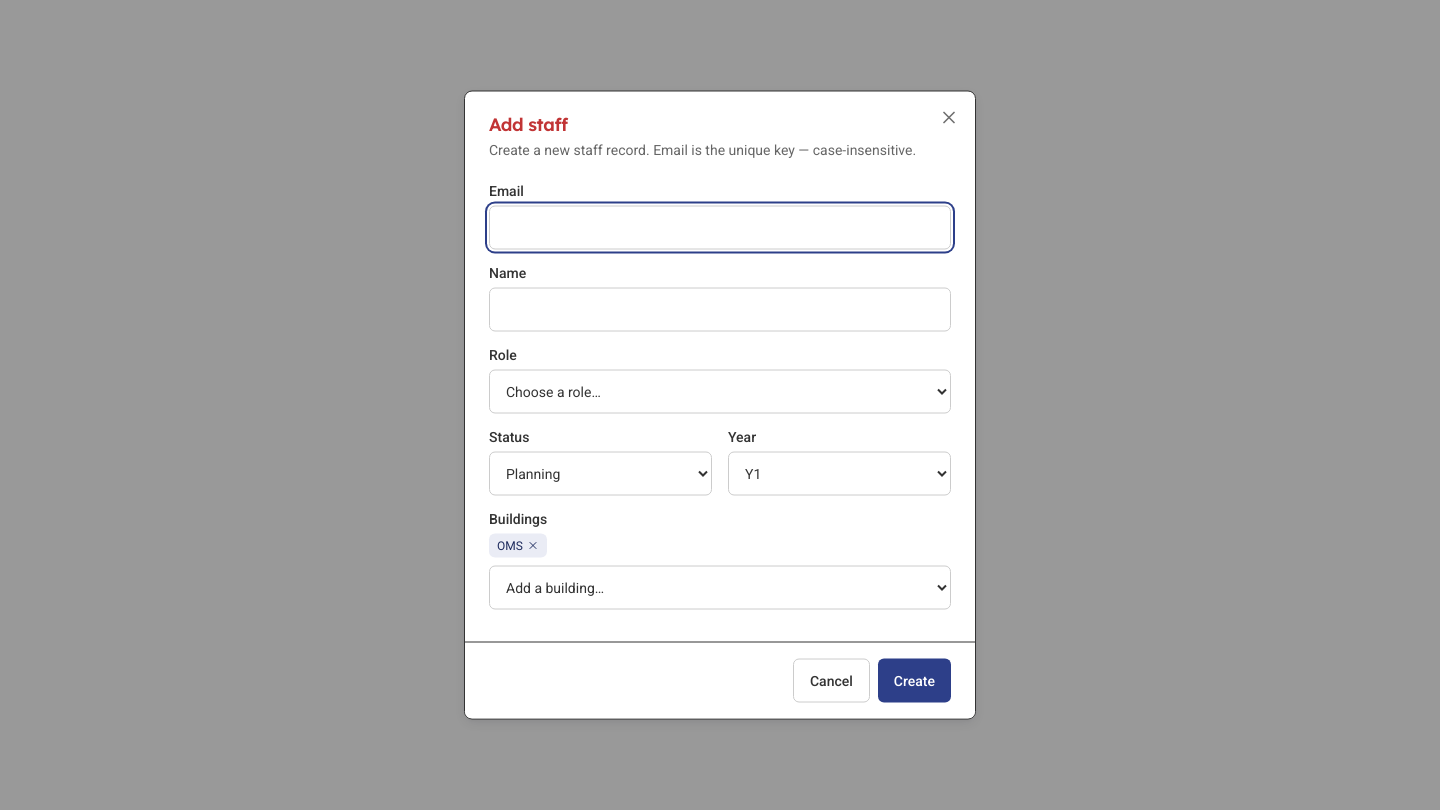
Test: StaffDialog with buildingScope › refuses to create someone outside the admin's buildings
Type "new@orono.k12.mn.us" into the field labelled "Email" at (720, 228), box x1=489 y1=206 x2=951 y2=250
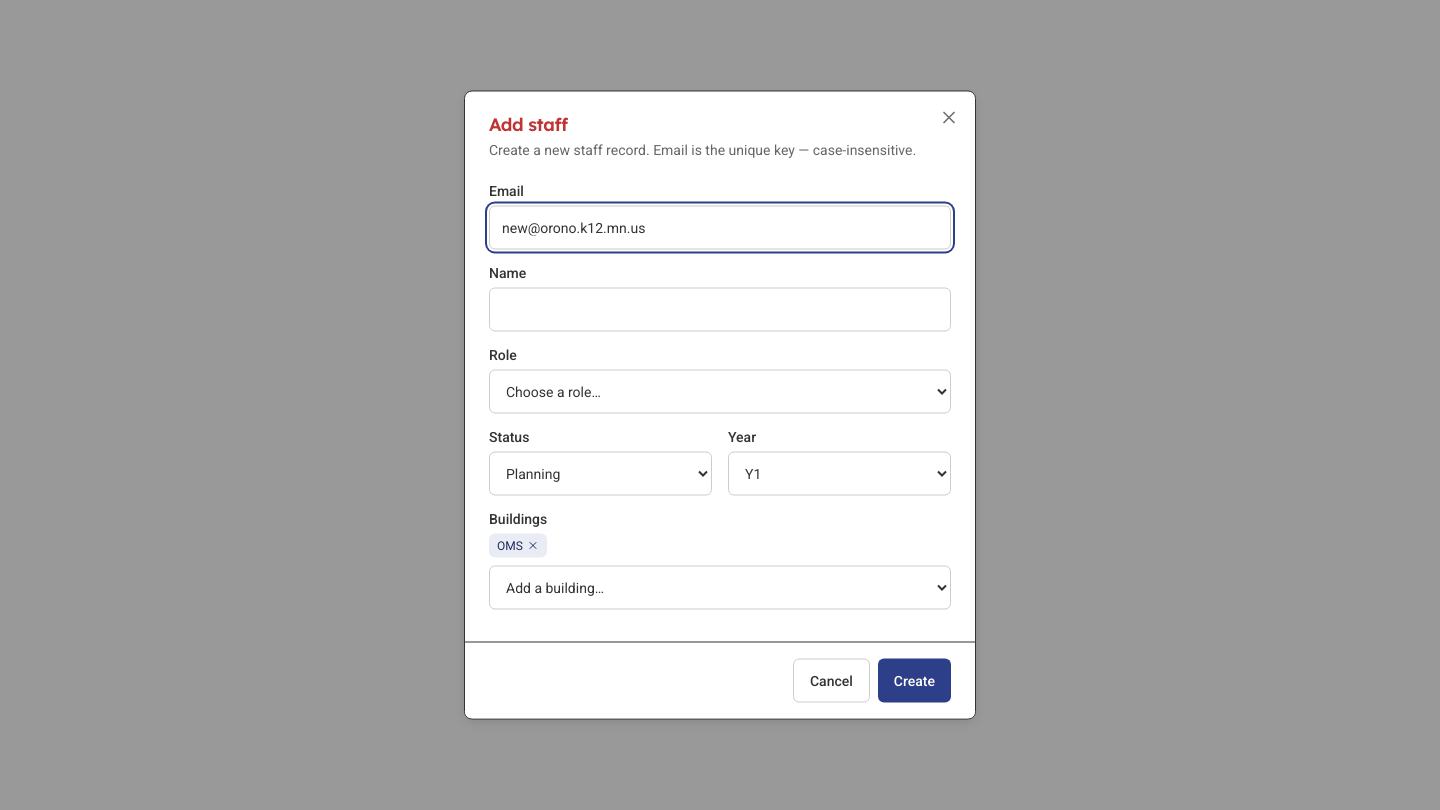
Type "New Hire" into the field labelled "Name" at (720, 310), box x1=489 y1=288 x2=951 y2=332
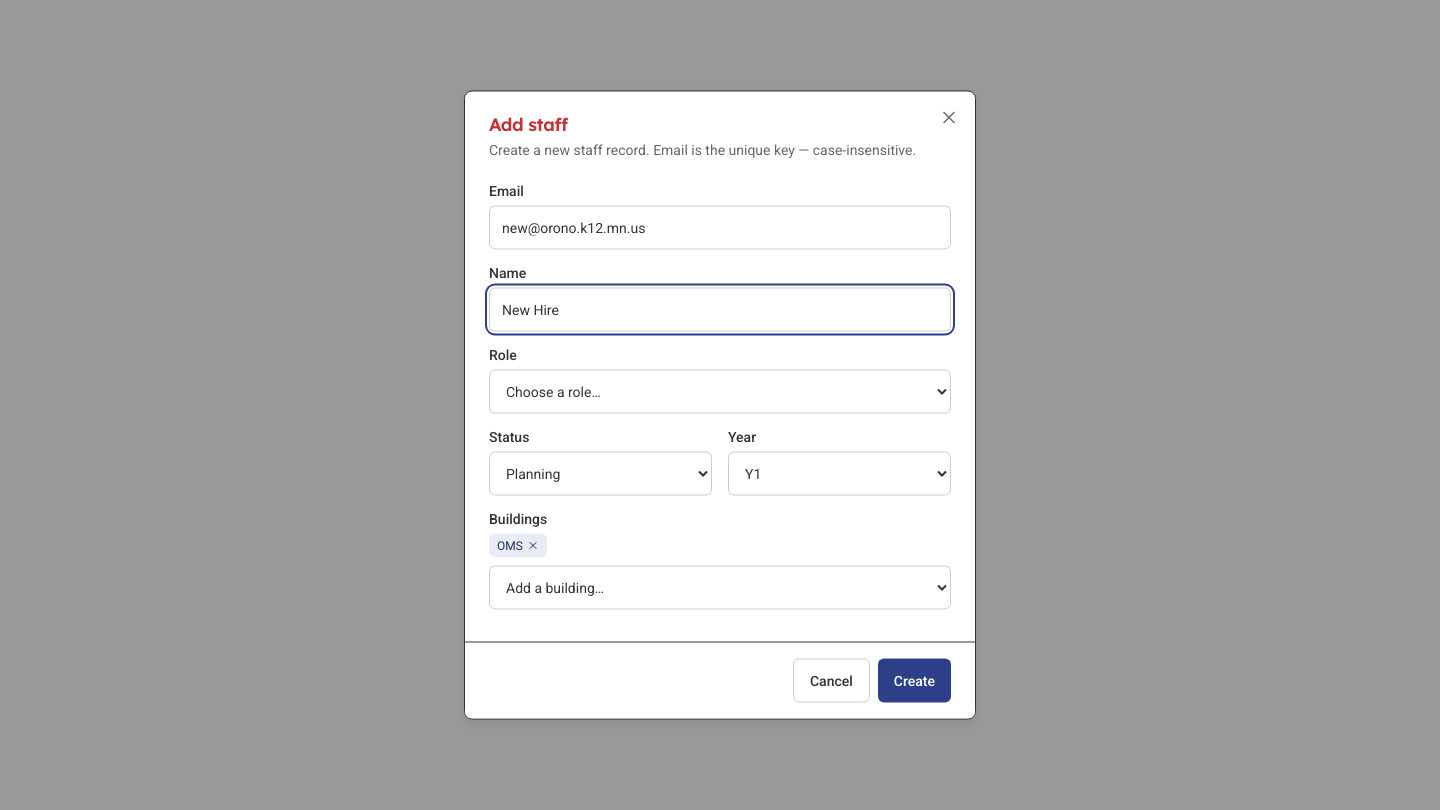
Select "Classroom Teacher" in the dropdown labelled "Role" at (720, 392), box x1=489 y1=370 x2=951 y2=414
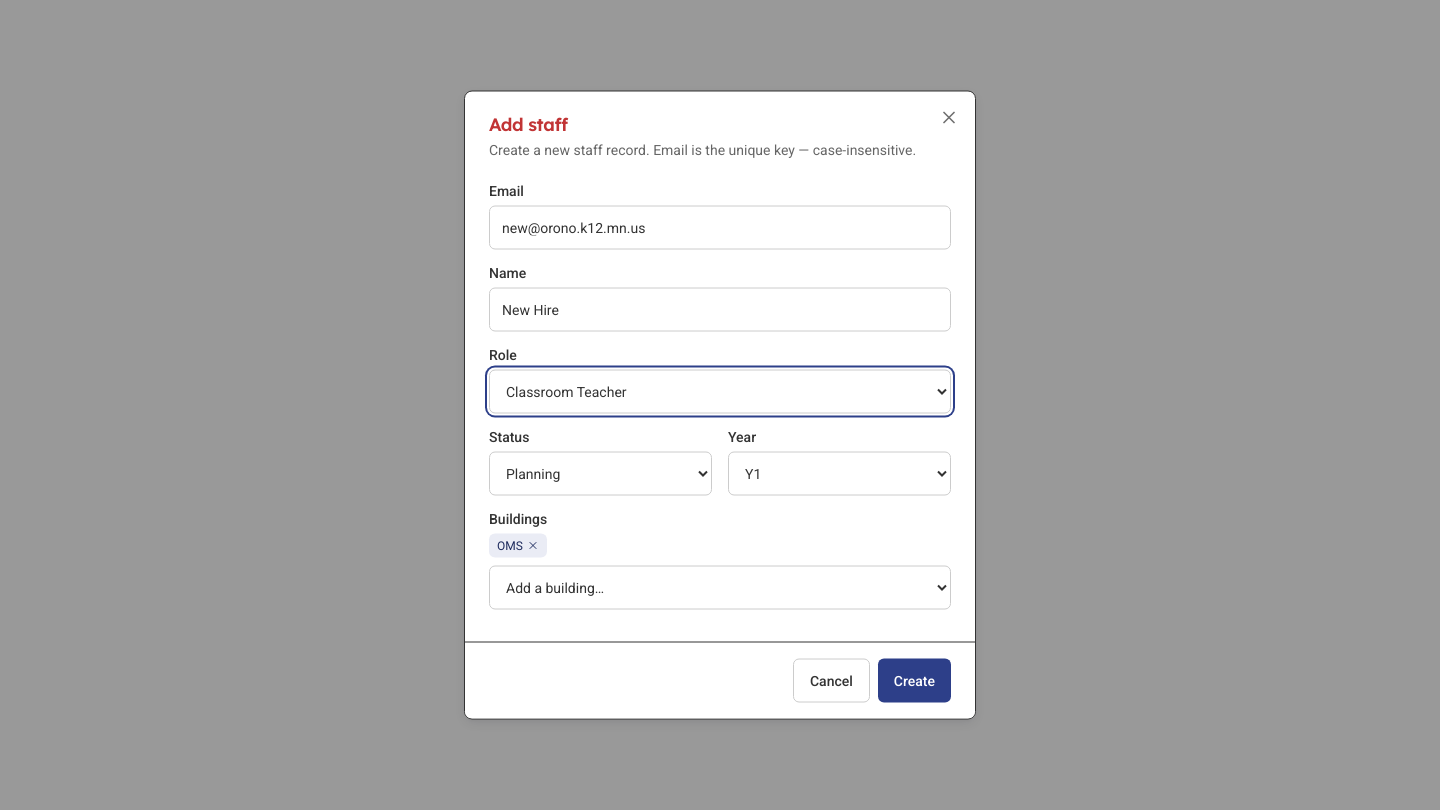
Click the button named "Remove OMS" at (533, 546), box x1=527 y1=540 x2=539 y2=552
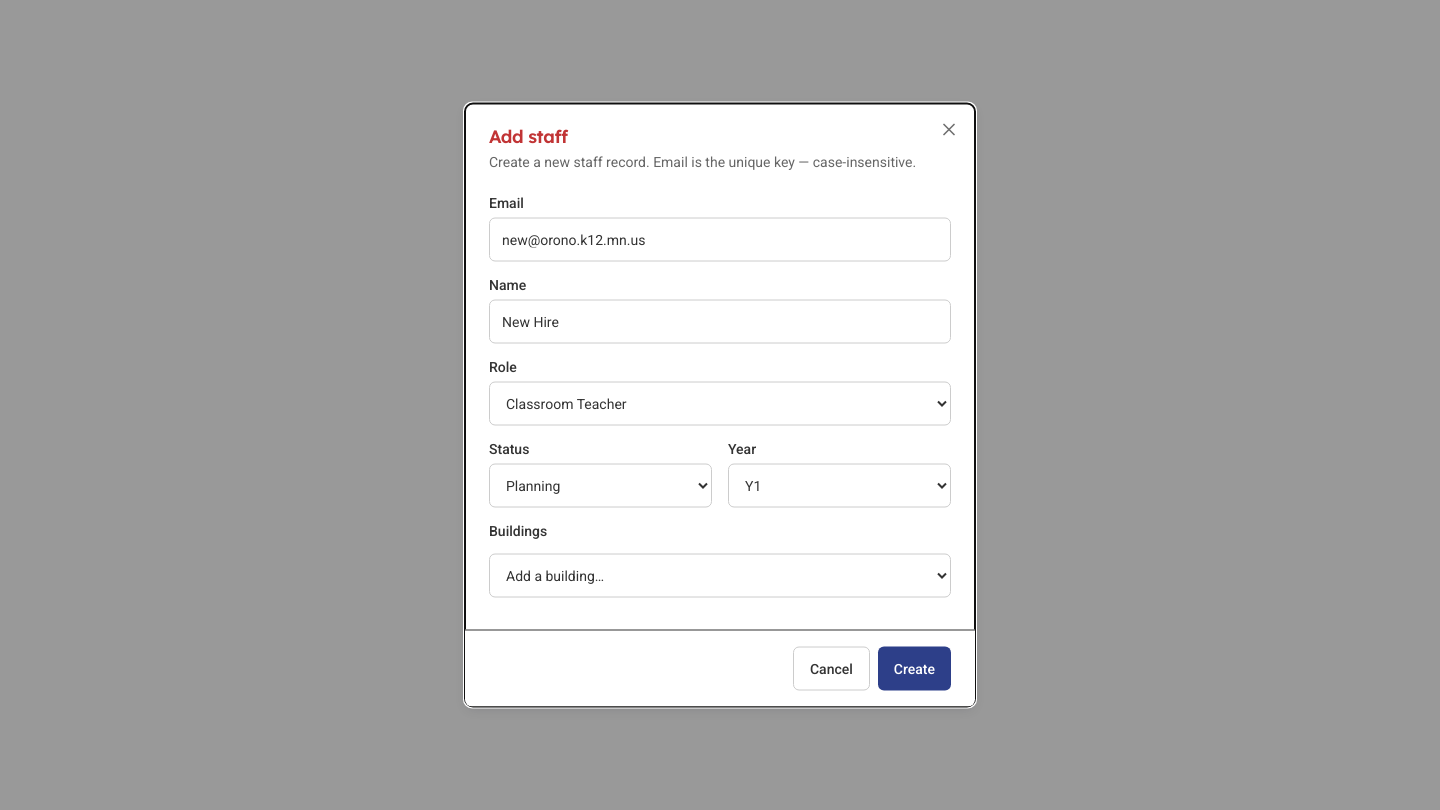
Click the button "Create" at (914, 668), box x1=878 y1=646 x2=951 y2=690
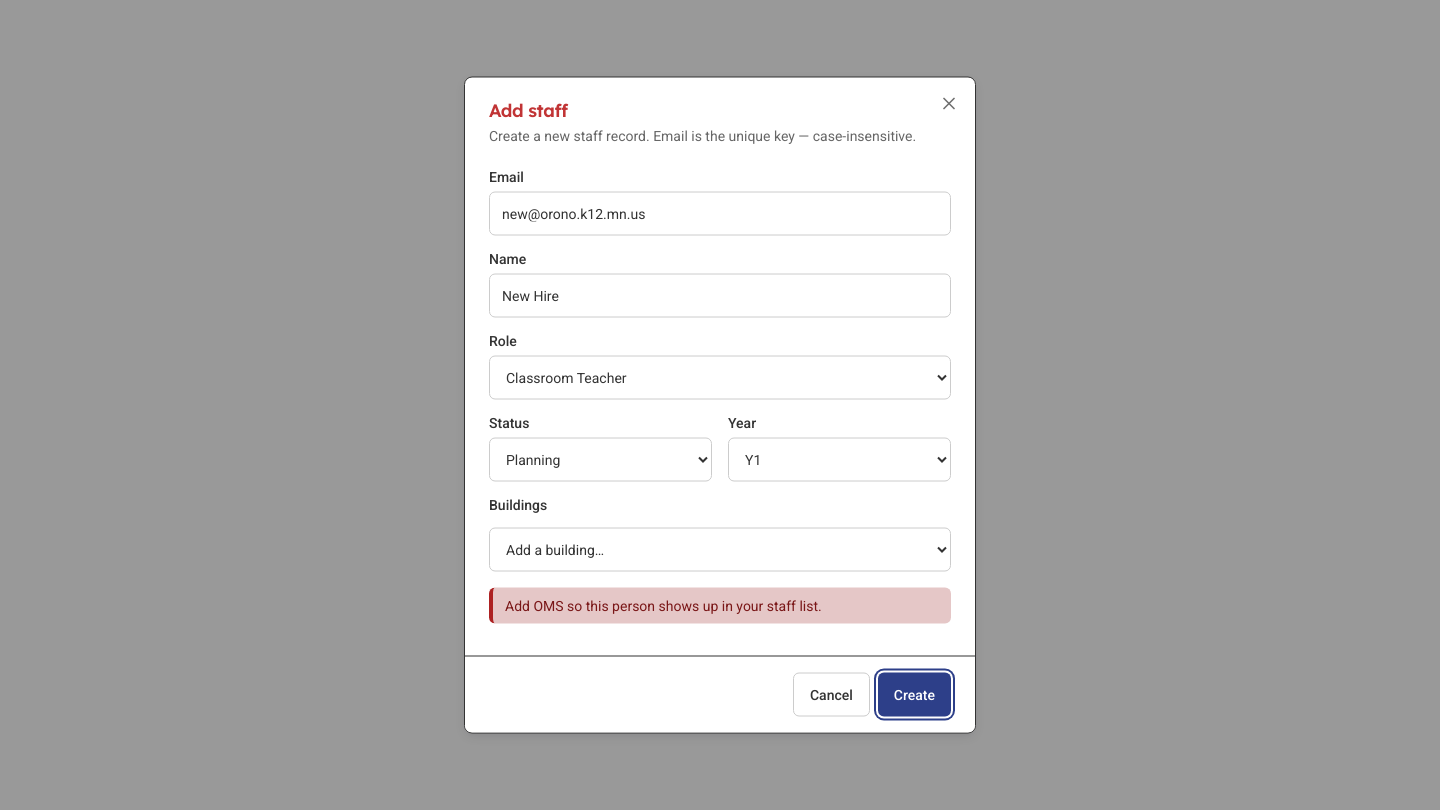
Expected: the text "Add OMS so this person shows up in your staff list." is shown, x1=489 y1=588 x2=951 y2=624
